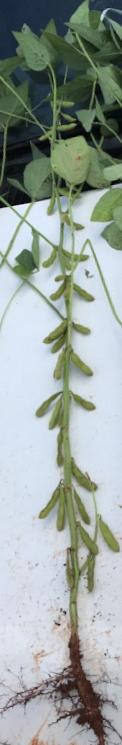soja: (96, 509, 122, 560), (35, 481, 61, 526), (71, 462, 106, 493), (69, 347, 97, 379), (78, 525, 102, 561), (61, 239, 94, 265), (30, 389, 57, 420), (62, 554, 82, 594), (67, 389, 99, 411), (42, 319, 72, 342), (50, 348, 69, 384), (75, 279, 98, 308), (75, 491, 93, 524), (59, 215, 85, 236), (45, 333, 72, 353), (46, 282, 69, 303), (87, 555, 98, 597), (54, 432, 66, 470), (48, 405, 67, 428), (43, 247, 61, 271), (49, 187, 61, 220), (70, 321, 96, 336), (58, 495, 67, 538), (58, 256, 76, 273)
